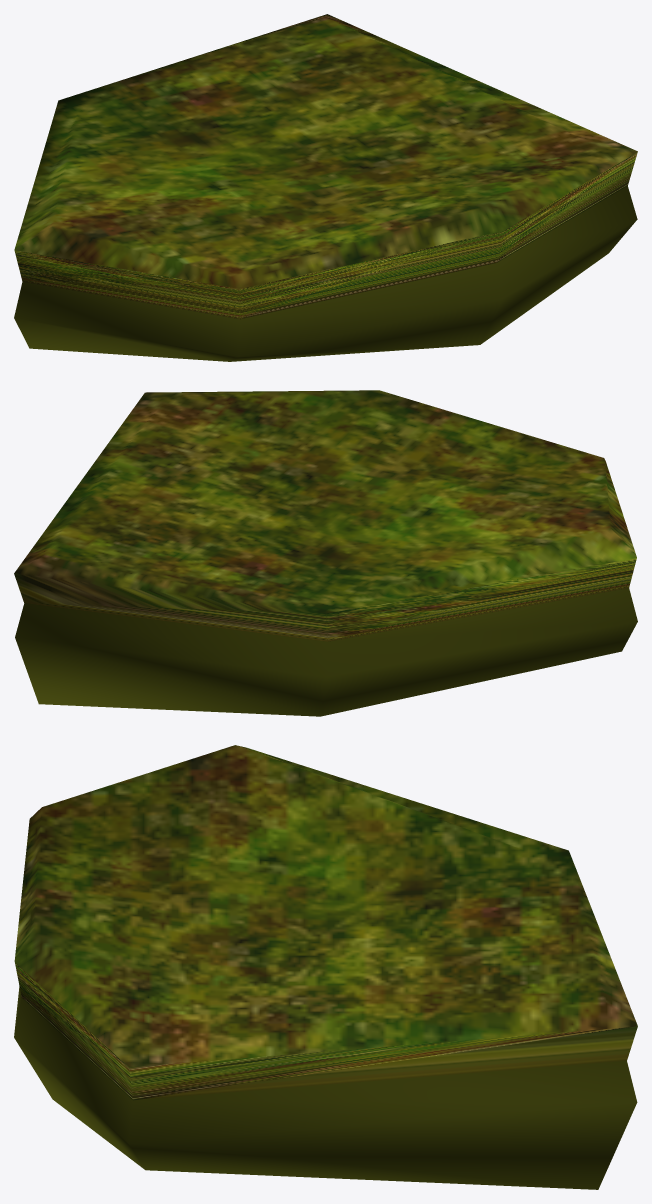
File: TROLLHOLE02_RM_FALL_ROCK03.fbx
The picture shows the model from 3 angles, top to bottom: view 1: azimuth 30°, elevation 25°; view 2: azimuth 150°, elevation 25°; view 3: azimuth 270°, elevation 25°; orthographic projection. The views are drawn at different scales.
Visible parts, largest first — view 1: TROLLHOLE02_RM_FALL_ROCK03; view 2: TROLLHOLE02_RM_FALL_ROCK03; view 3: TROLLHOLE02_RM_FALL_ROCK03.
Part boxes in pixels (x1,y1,x2,y2): TROLLHOLE02_RM_FALL_ROCK03: (14,14,637,361); TROLLHOLE02_RM_FALL_ROCK03: (14,390,637,716); TROLLHOLE02_RM_FALL_ROCK03: (14,745,637,1189).
Size of the model in its own units: 26586 by 7871 by 22156.
Materials: 1 (1 with a texture image).
